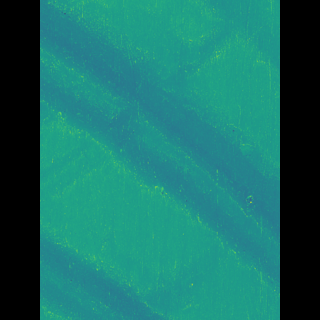Loch: (69, 0, 248, 295), (70, 214, 165, 320)
